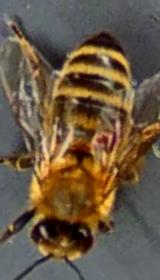varroa_mite: (90, 122, 120, 153)
